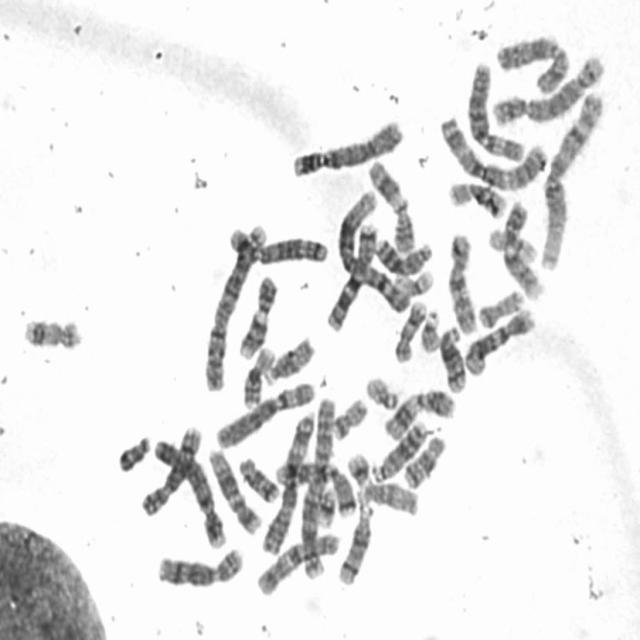A1: (536, 84, 606, 273), (332, 185, 413, 314)
A2: (198, 215, 269, 392), (295, 390, 338, 582)
A3: (434, 107, 550, 193), (257, 405, 317, 555)
B4: (148, 428, 229, 550), (287, 111, 406, 178)
B5: (486, 46, 608, 126), (223, 218, 330, 266)
C10: (250, 525, 342, 598), (443, 225, 480, 335)
C11: (363, 151, 417, 255), (377, 380, 458, 442)
C12: (202, 439, 264, 536), (459, 302, 537, 377)
C6: (211, 374, 318, 449), (462, 53, 527, 163)
C7: (321, 215, 380, 332), (270, 454, 358, 519)
C8: (135, 418, 204, 518), (151, 540, 246, 590)
C9: (498, 194, 546, 302), (233, 268, 280, 360)
D13: (366, 412, 429, 484), (371, 231, 434, 277)
D14: (332, 494, 376, 586), (434, 317, 469, 395)
D15: (261, 329, 316, 386), (356, 476, 421, 518)
E16: (443, 173, 508, 220), (238, 338, 278, 409)
E17: (18, 309, 83, 352), (390, 294, 429, 364)
E18: (398, 428, 448, 490), (234, 449, 282, 505)
F19: (483, 220, 540, 264), (390, 263, 436, 297)
F20: (473, 282, 526, 328), (327, 390, 369, 442)
G21: (342, 446, 372, 488), (312, 482, 338, 529)
G22: (360, 369, 401, 411), (416, 302, 442, 354)
X: (490, 27, 572, 95)
Y: (112, 428, 153, 474)
